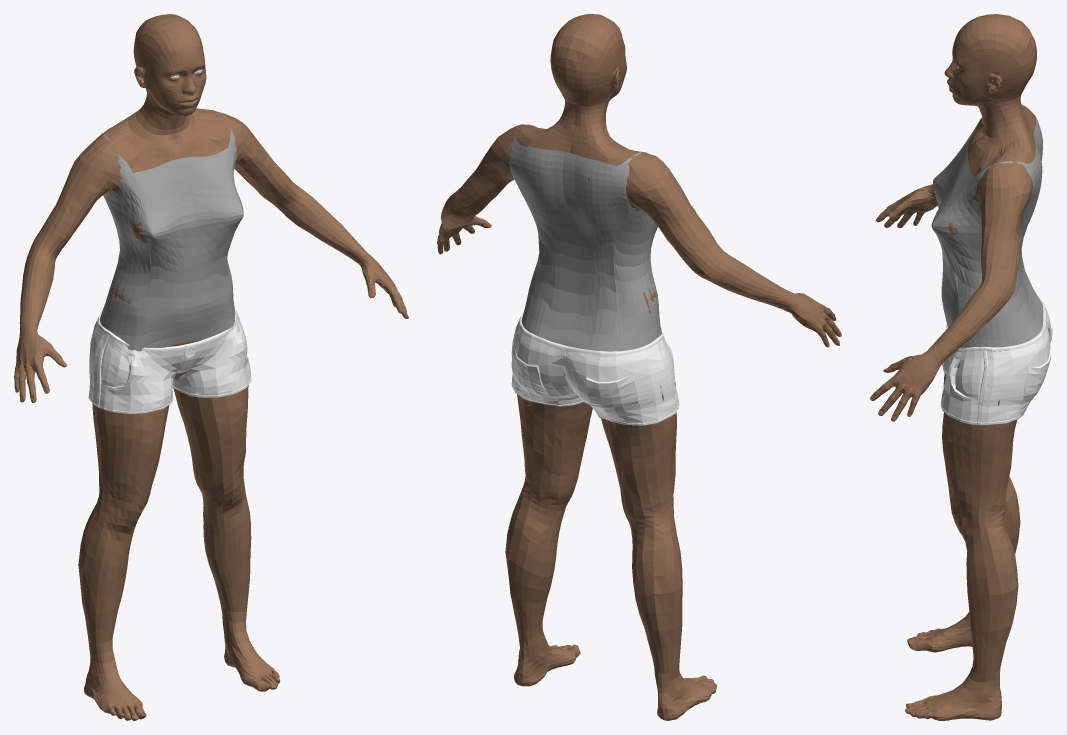
The model's file is tankf.obj.
3 views of the same model, side by side, from view 1: azimuth 30°, elevation 25°; view 2: azimuth 150°, elevation 25°; view 3: azimuth 270°, elevation 25° (orthographic). The views are drawn at different scales.
Visible parts, largest first — view 1: female_modelBody, Cube, female_model_short01; view 2: female_modelBody, Cube, female_model_short01; view 3: female_modelBody, Cube, female_model_short01.
Part boxes in pixels (box(x1,y1,x2,y2)): female_modelBody: box(14, 14, 408, 720); Cube: box(99, 112, 243, 351); female_model_short01: box(88, 304, 251, 414); female_modelBody: box(437, 14, 841, 720); Cube: box(509, 124, 662, 369); female_model_short01: box(511, 313, 679, 425); female_modelBody: box(870, 14, 1042, 720); Cube: box(931, 105, 1050, 367); female_model_short01: box(940, 296, 1052, 425).
Size of the model in its own units: 9.71 by 15.91 by 3.94.
